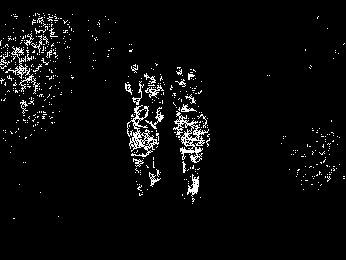person: (120, 101, 164, 197), (173, 98, 211, 202), (144, 57, 167, 124), (122, 61, 142, 109)
